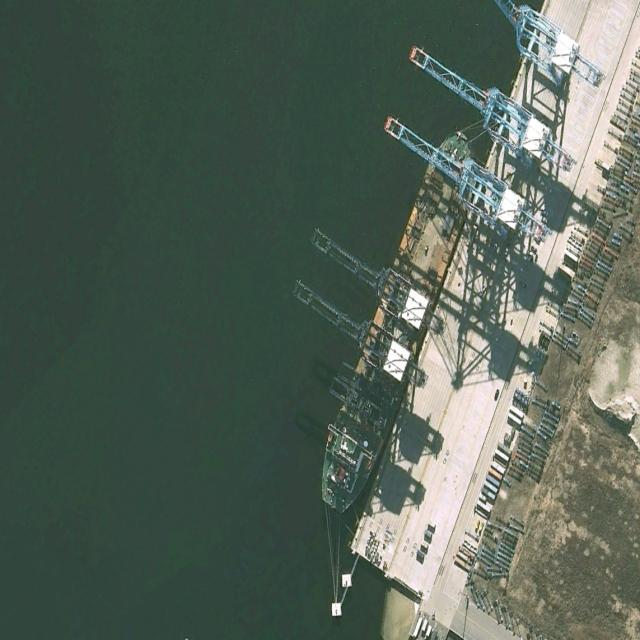Cargo: (307, 117, 492, 525)
